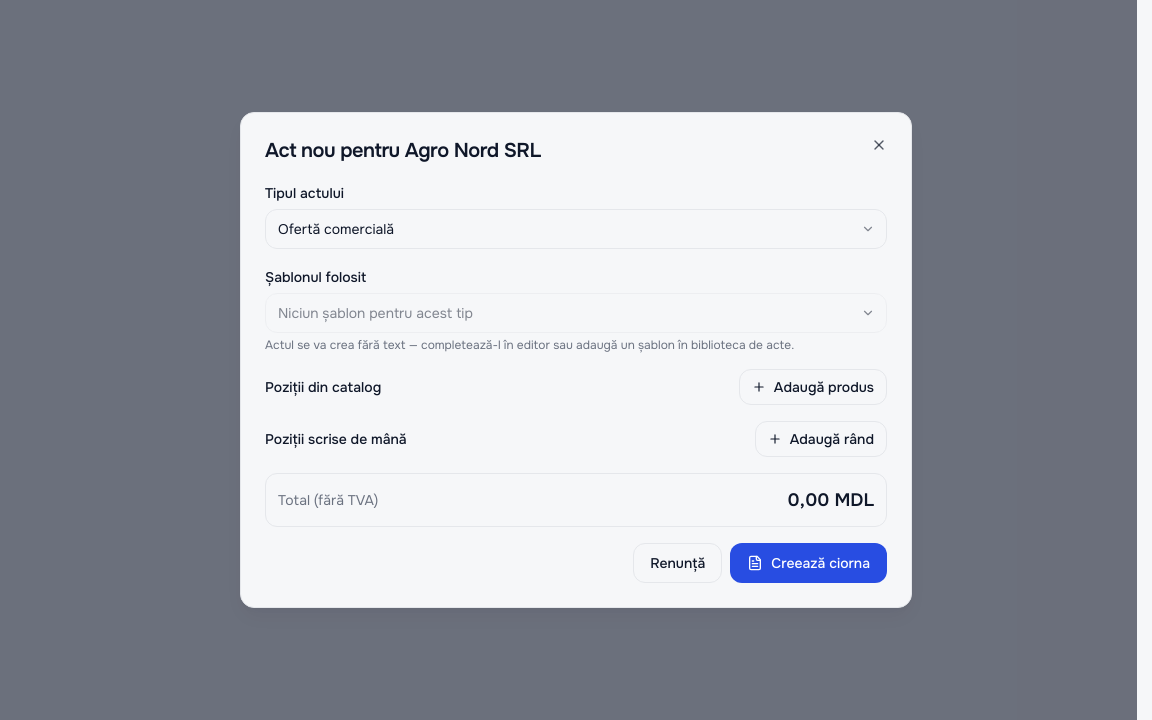
Test: Act nou dintr-un lead › [blocant] totalul se vede ÎNAINTE de a crea actul
Click the button "Adaugă produs": (813, 387) x1=739 y1=369 x2=887 y2=405
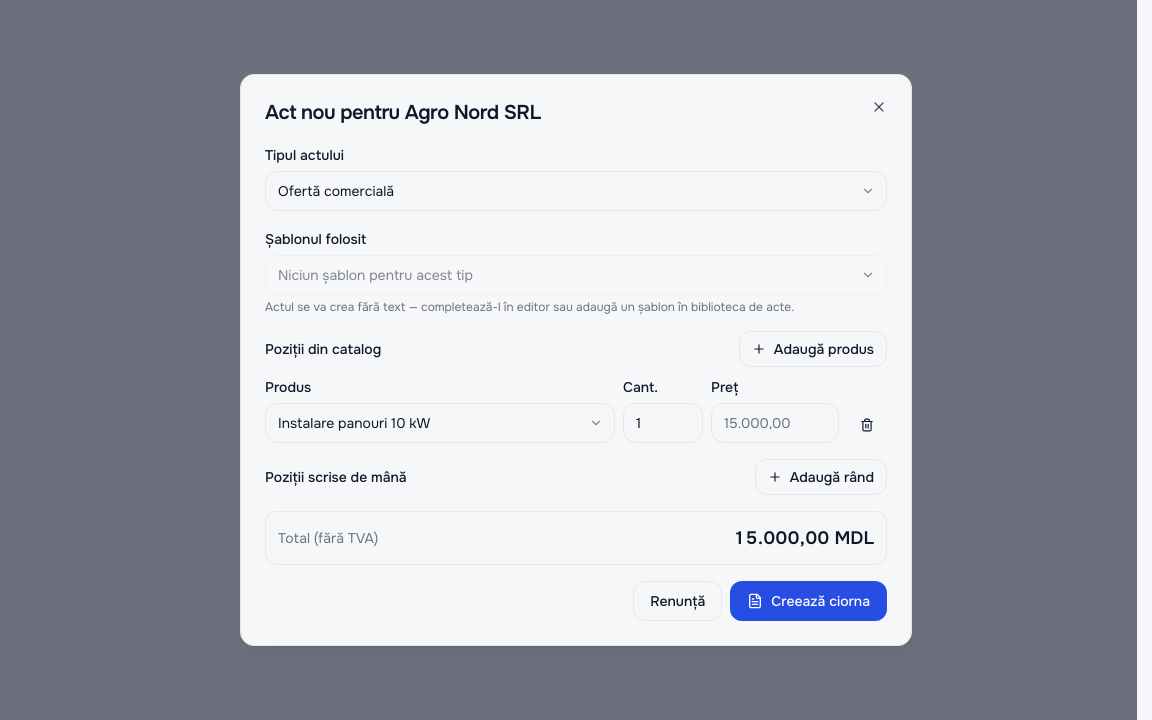
Check: the text "15.000,00 MDL" is shown, box x1=734 y1=524 x2=874 y2=552
